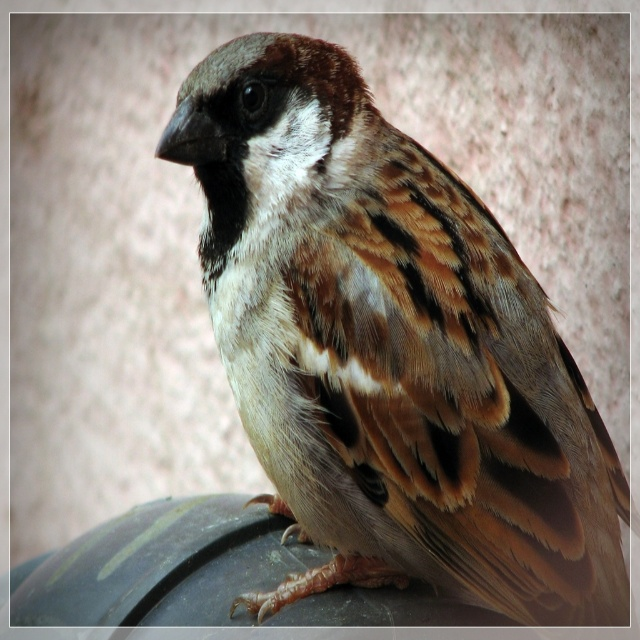Sparrow: (153, 32, 639, 628)
